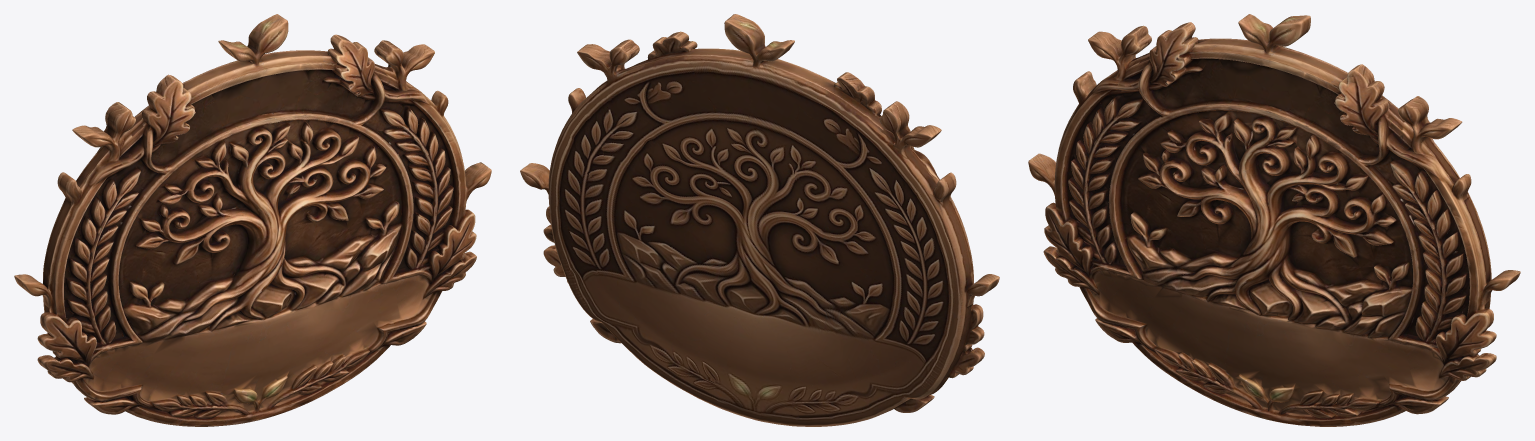
The model's file is rank-bronzo.glb.
3 views of the same model, side by side, from view 1: azimuth 30°, elevation 25°; view 2: azimuth 150°, elevation 25°; view 3: azimuth 330°, elevation 25° (orthographic). The views are drawn at different scales.
Bounding box in the file's own units: 1.9 × 1.53 × 0.1781.
Materials: 1 (1 with a texture image).
